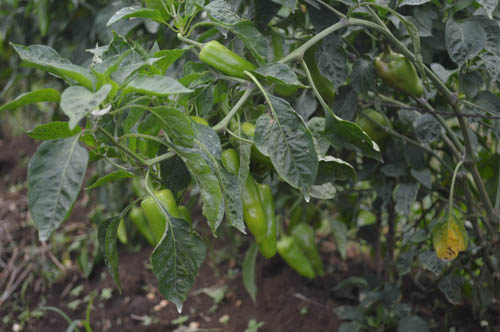ChiliPepper: (225, 156, 263, 241), (197, 44, 265, 77), (381, 55, 428, 91), (276, 239, 313, 279), (256, 185, 274, 261), (146, 192, 174, 237), (348, 112, 393, 139), (293, 228, 325, 263), (222, 125, 266, 150)
